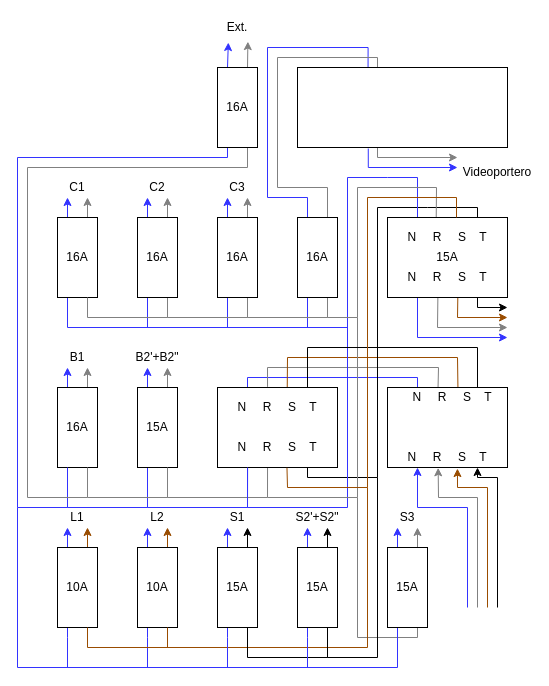
Image size: 549x686. Some labels were removed from this diagram. The shapes that lost their labels are listed below. From the top down, each one's box as (x1, y1, x2, y2) in pixels, then its label:
(216, 386, 338, 468): 40A / 30mA
(386, 386, 508, 468): 40A
